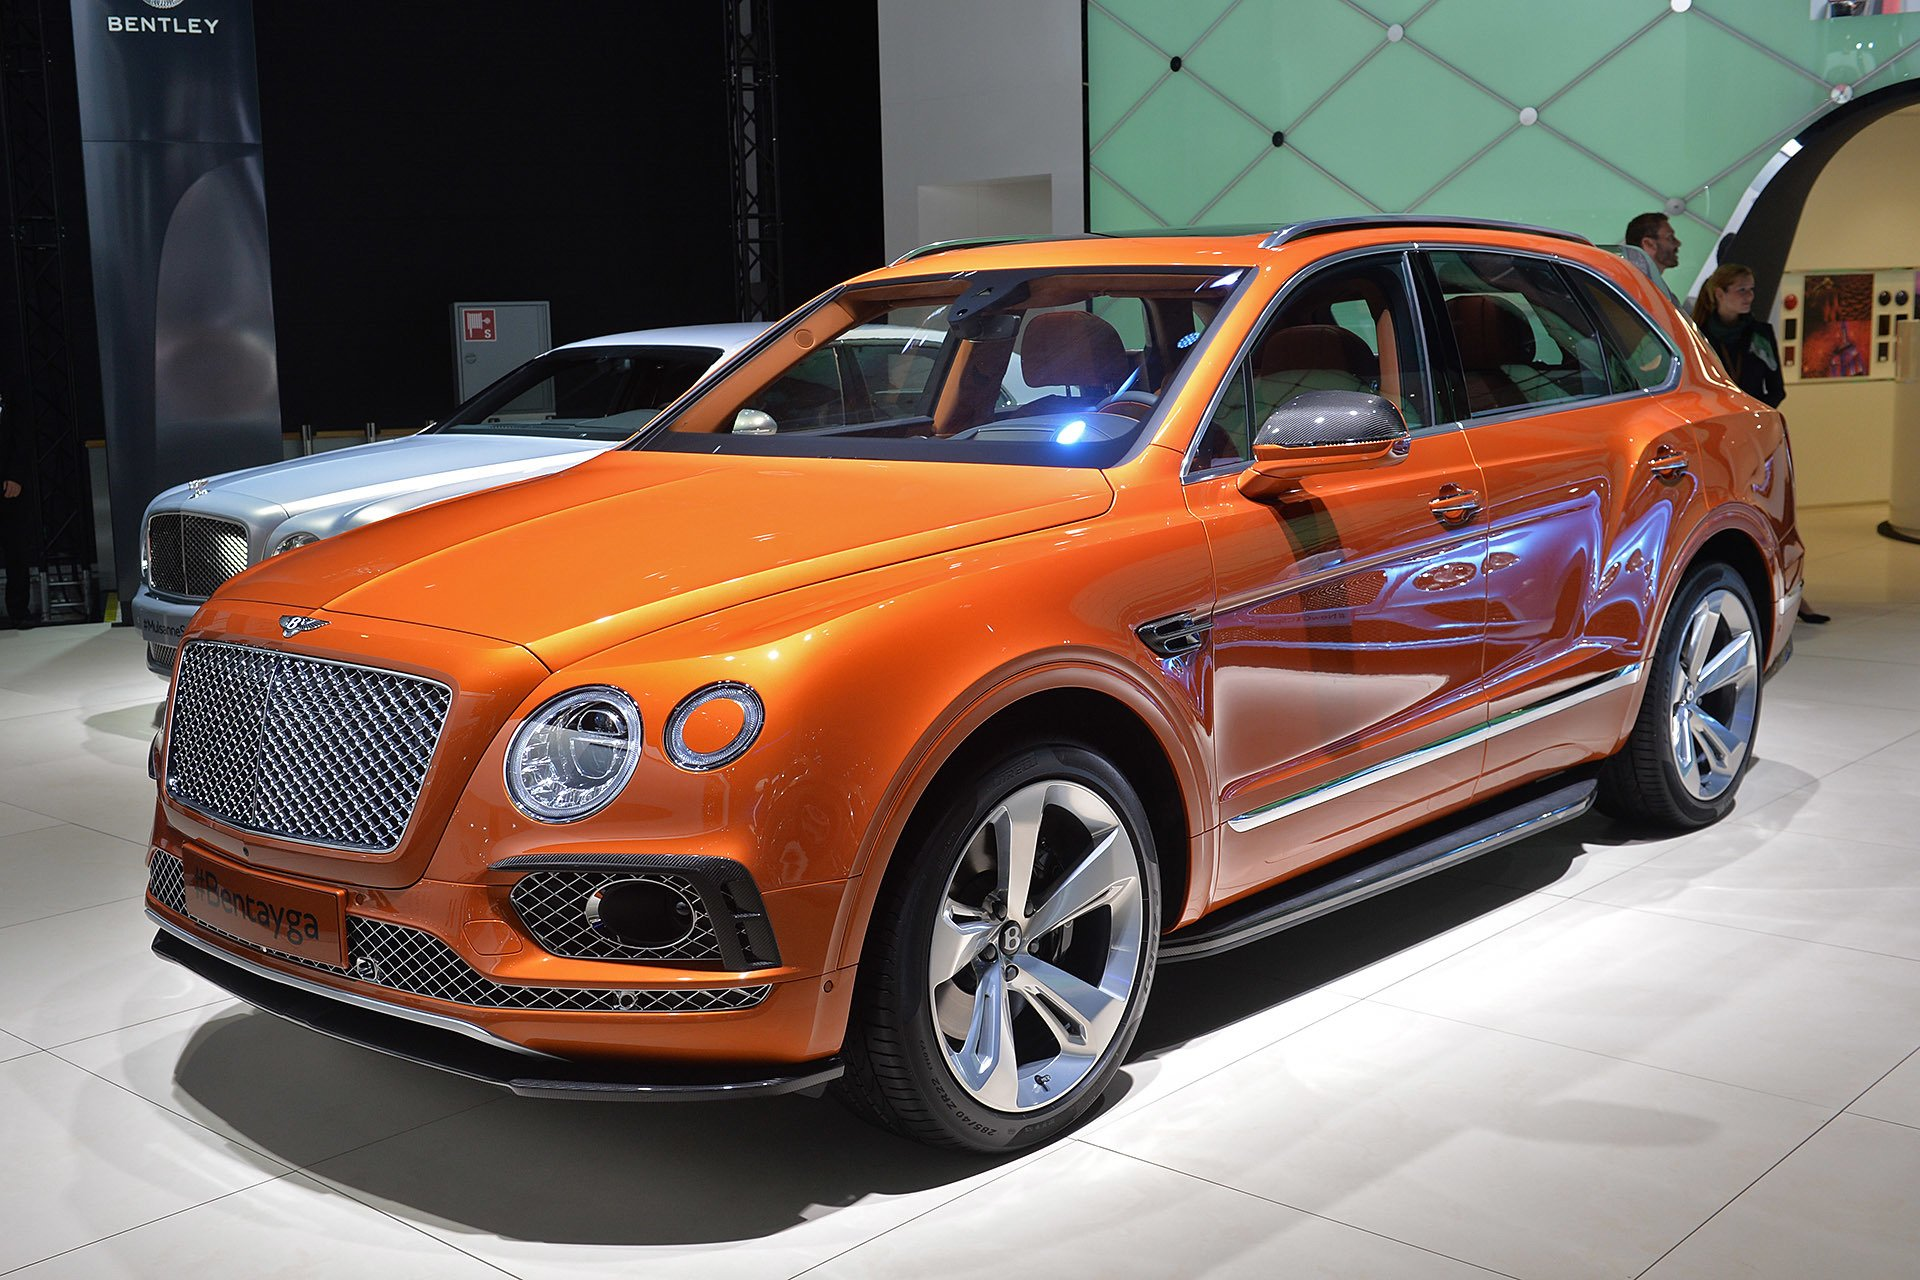headlight: (486, 674, 659, 834), (129, 491, 166, 580)
wheel: (826, 704, 1161, 1174), (1624, 537, 1764, 834)
